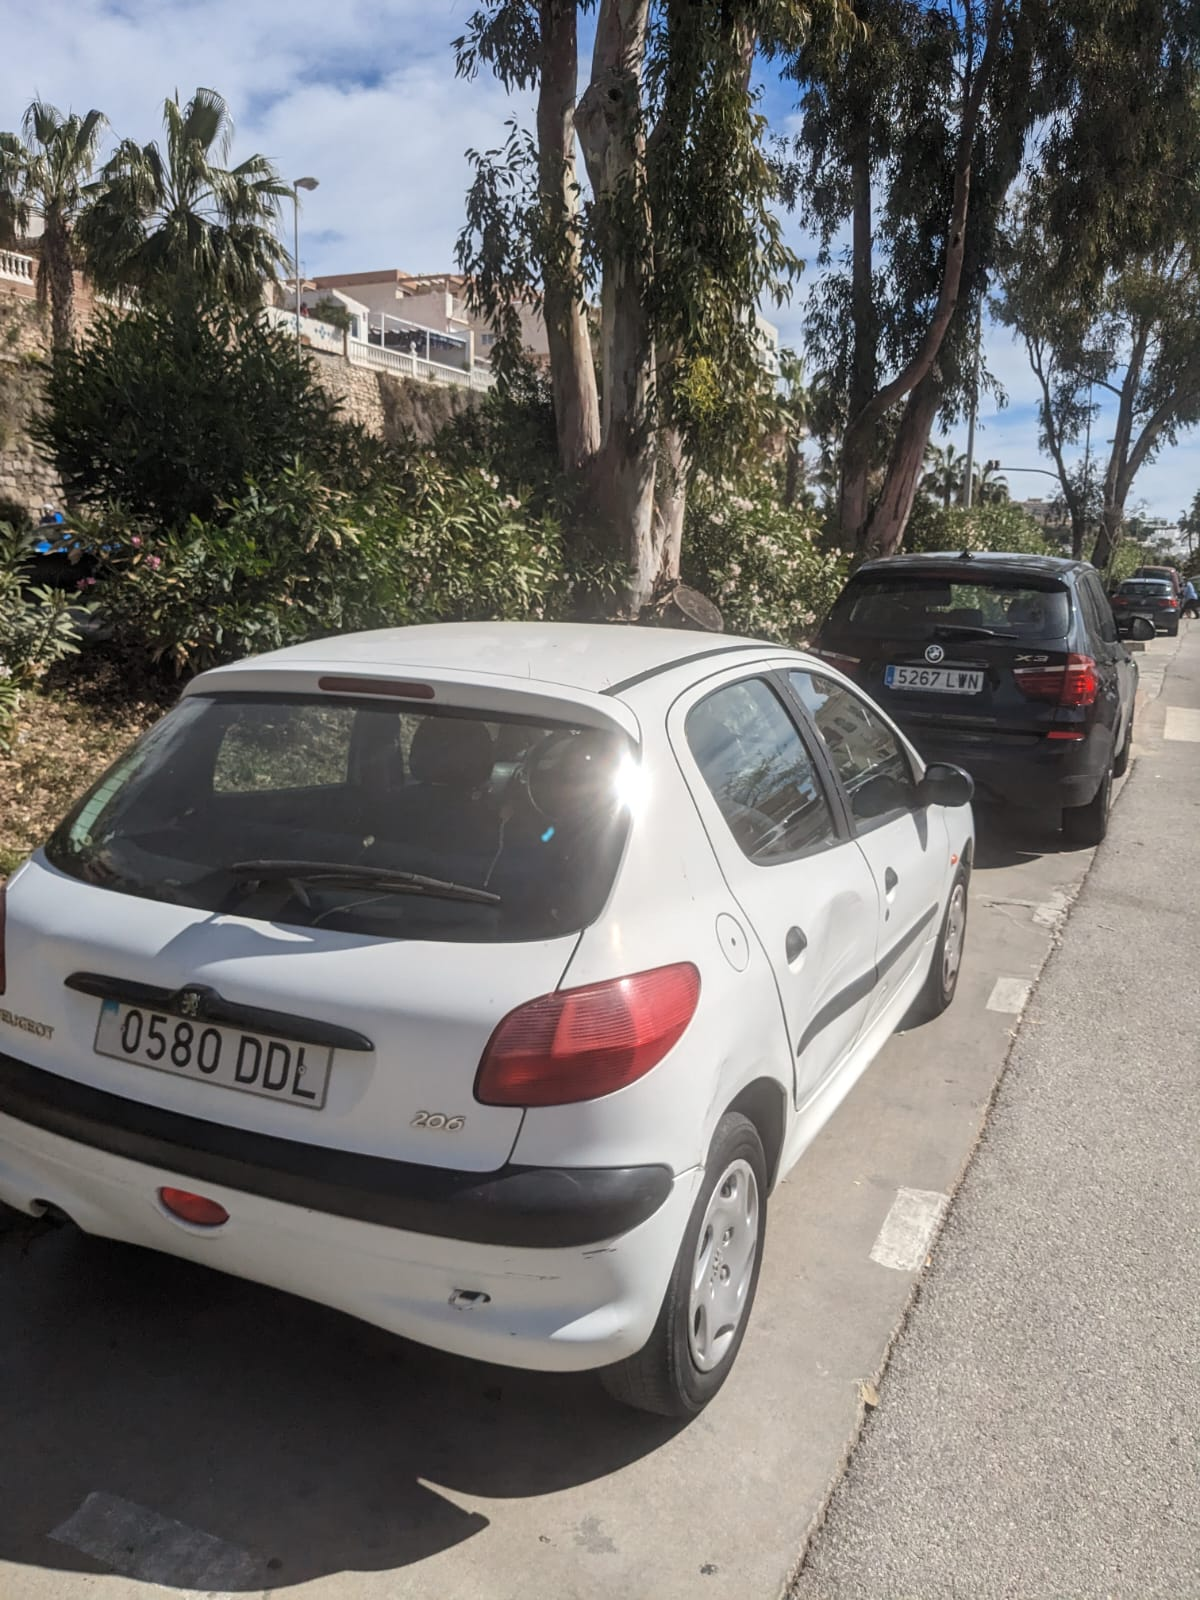car: (4, 571, 1007, 1431), (841, 533, 1137, 824), (1107, 569, 1184, 637)
